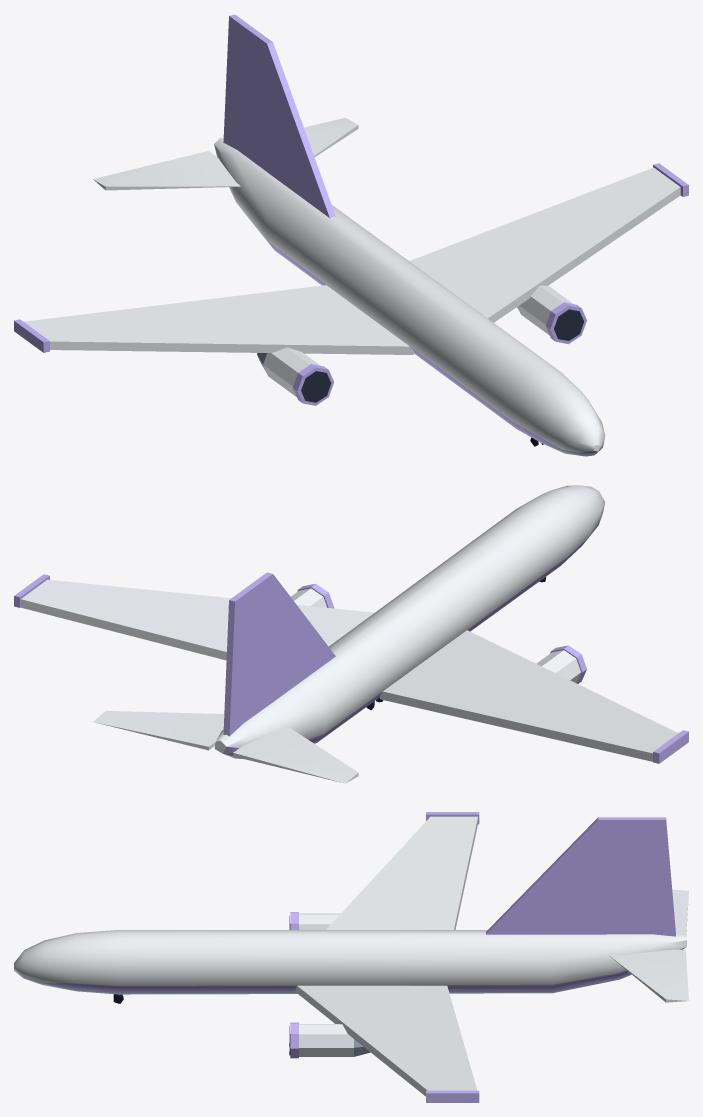
Rendered from cargo_plane.glb.
3 views of the same model, one above another, from view 1: azimuth 30°, elevation 25°; view 2: azimuth 150°, elevation 25°; view 3: azimuth 270°, elevation 25° (orthographic). The views are drawn at different scales.
Parts seen in each view (by area): view 1: cargo_plane; view 2: cargo_plane; view 3: cargo_plane.
Boxes of the visible parts, x1,y1,x2,y2 form: cargo_plane: (14, 14, 688, 456); cargo_plane: (14, 485, 688, 783); cargo_plane: (14, 812, 688, 1102).
Bounding box in the file's own units: 63.8 × 19.47 × 64.7.
Materials: 1 (1 with a texture image).
